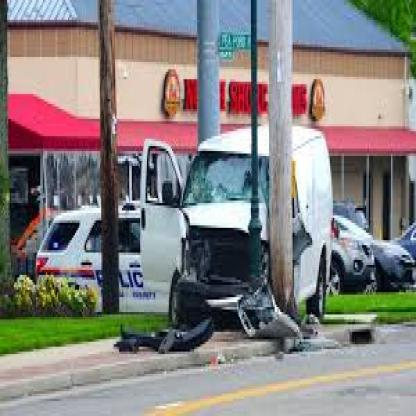accident: (127, 112, 338, 339)
